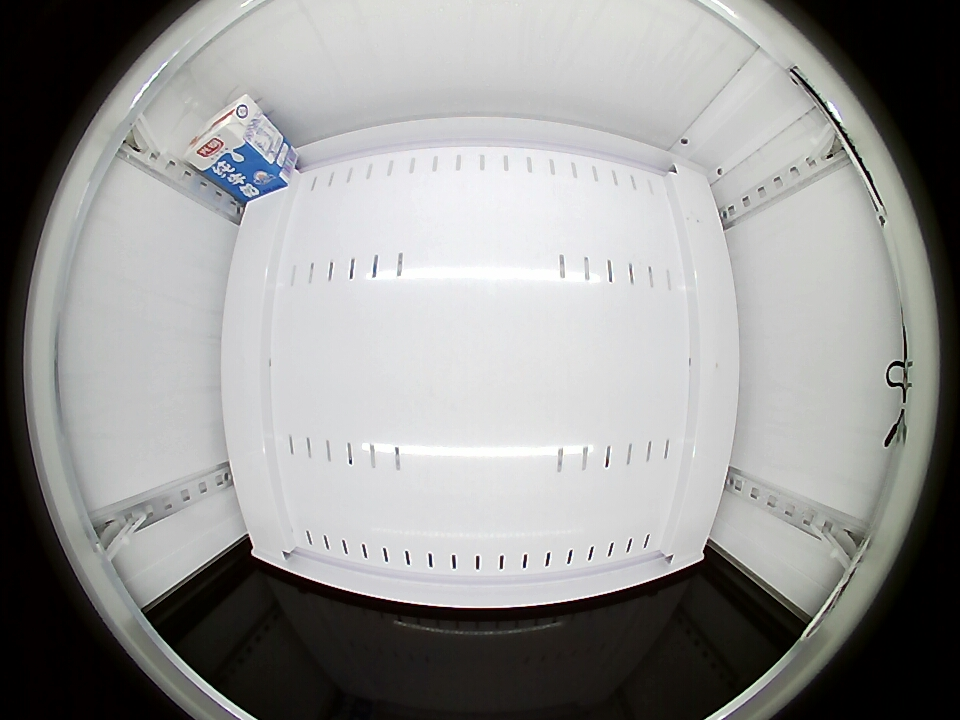niunai: (184, 92, 265, 176)
